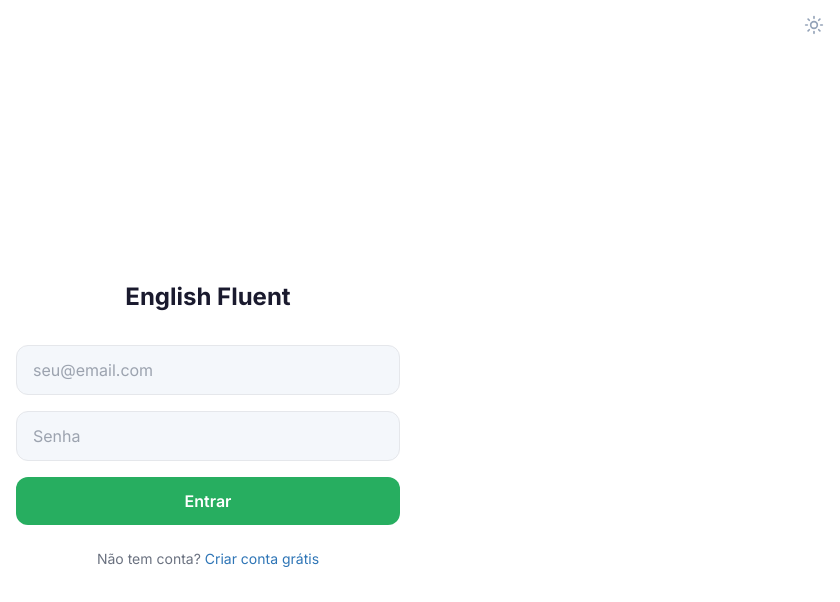
Scenario: LoginPage › shows validation error when password is empty on submit
Type "test@example.com" into the field with placeholder "seu@email.com" at (208, 370), box [16,345,400,395]
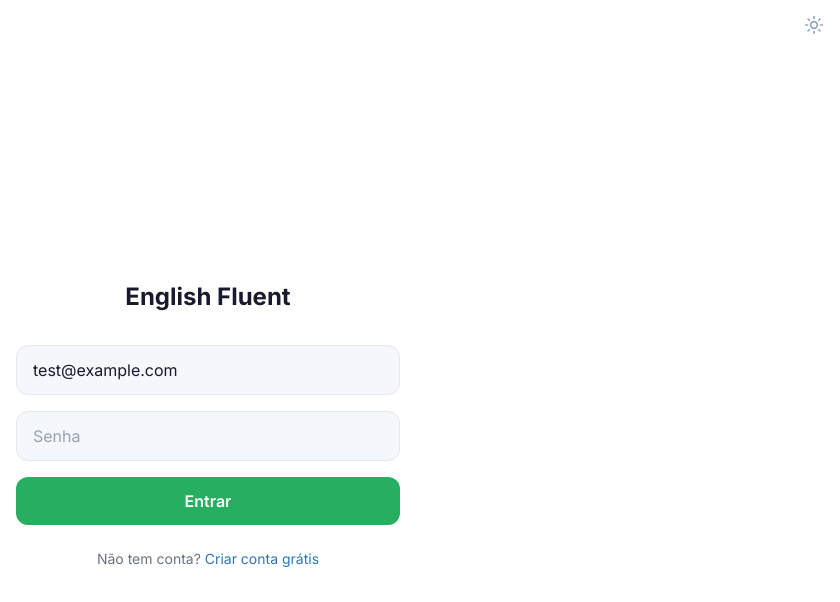
Click the button "Entrar" at (208, 501), box [16,477,400,525]
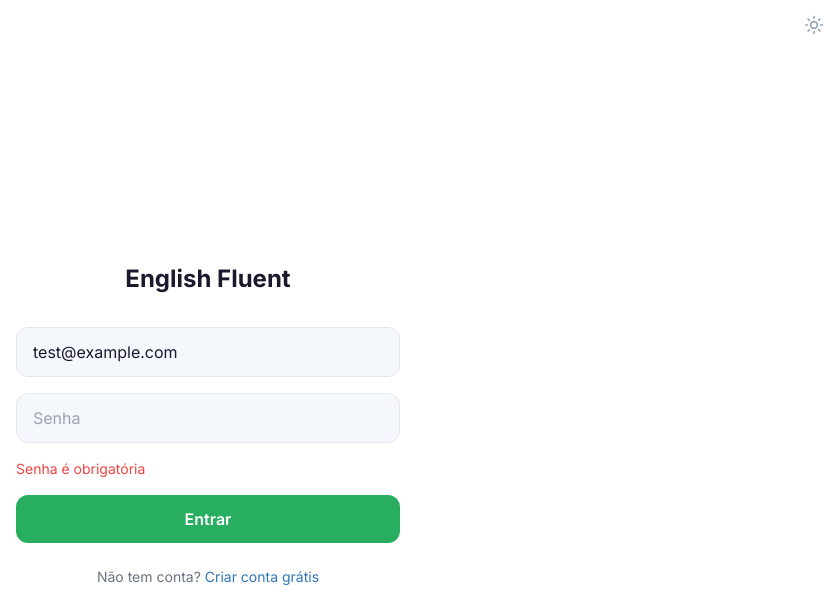
Check: the text "Senha é obrigatória" is shown, box [16,460,145,477]
